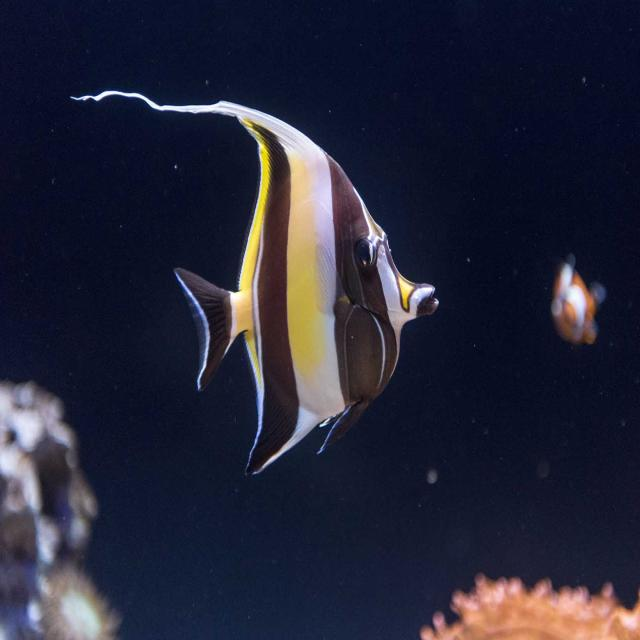MorishIdol: (68, 86, 440, 478)
